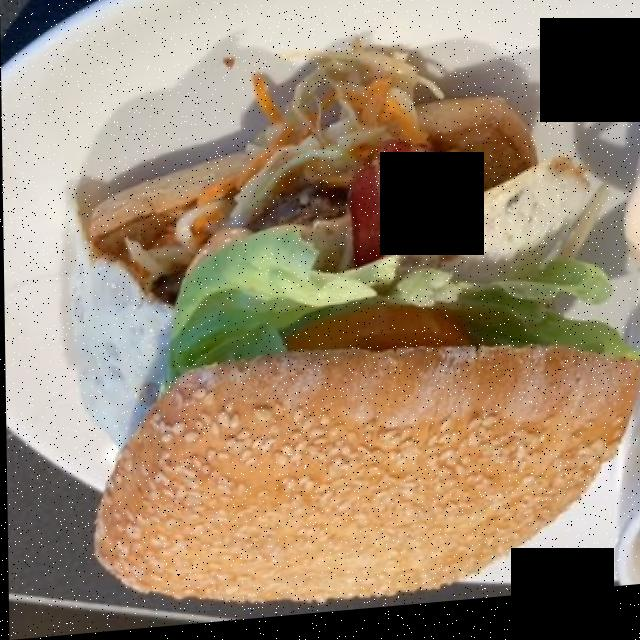bacon-frying: (350, 140, 455, 265)
egg: (83, 158, 621, 451)
hamburger-bread-meat-ketchup: (81, 107, 623, 596)
